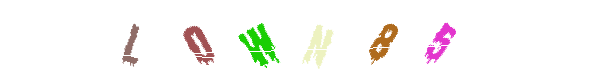5: (400, 0, 480, 80)
8: (343, 0, 423, 80)
L: (145, 0, 225, 80)
N: (258, 0, 338, 80)
O: (219, 0, 299, 80)
W: (255, 0, 335, 80)
